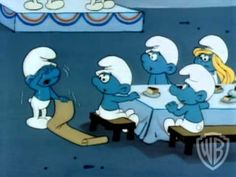smurf: (19, 44, 69, 130), (91, 53, 141, 134), (163, 63, 215, 135), (191, 33, 234, 83), (140, 35, 179, 85)
